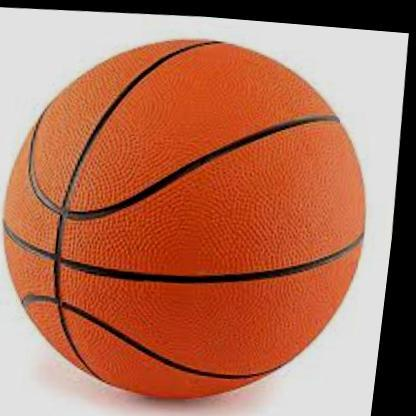basketball: (0, 17, 395, 410)
